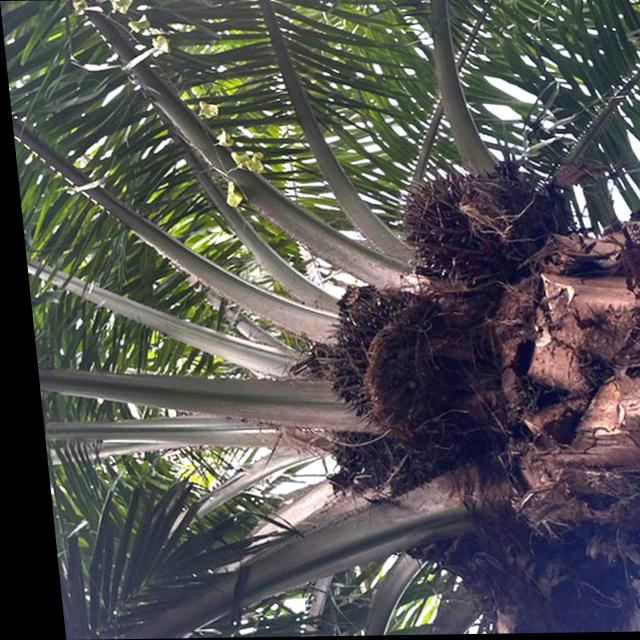unripe: (381, 159, 530, 280), (311, 279, 434, 423)
